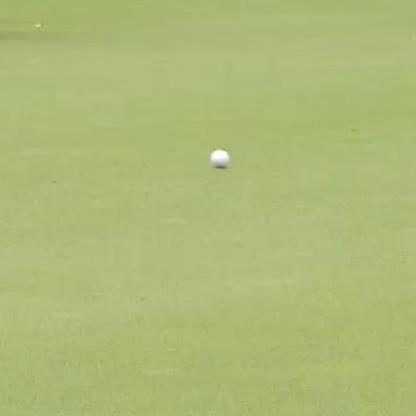golfball: (206, 146, 229, 169)
